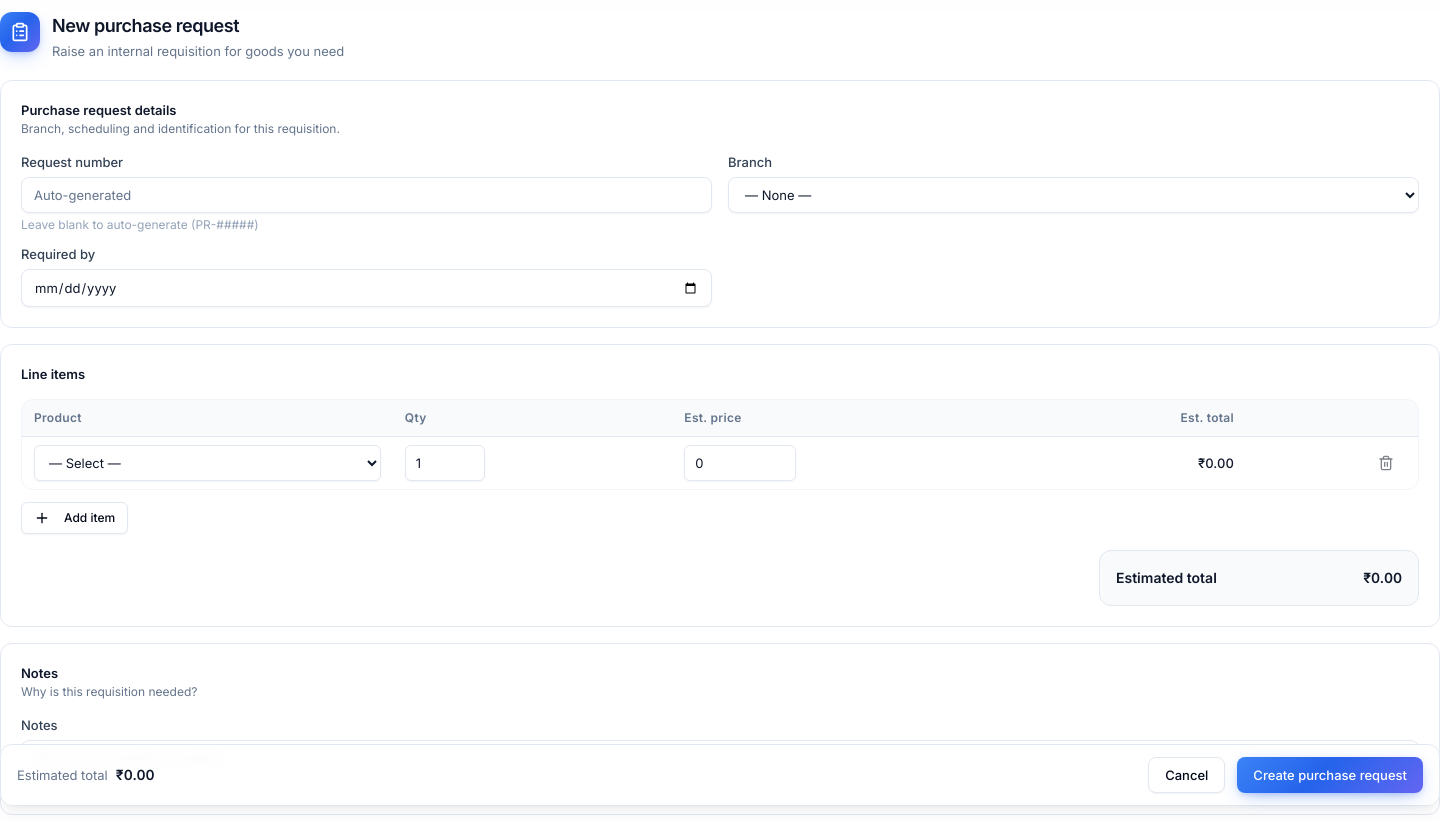
it: PurchaseRequestForm › pre-fills the estimated price from the chosen product
Select "Widget" in the dropdown named "Product for line 1" at (207, 462), box [34,444,381,480]
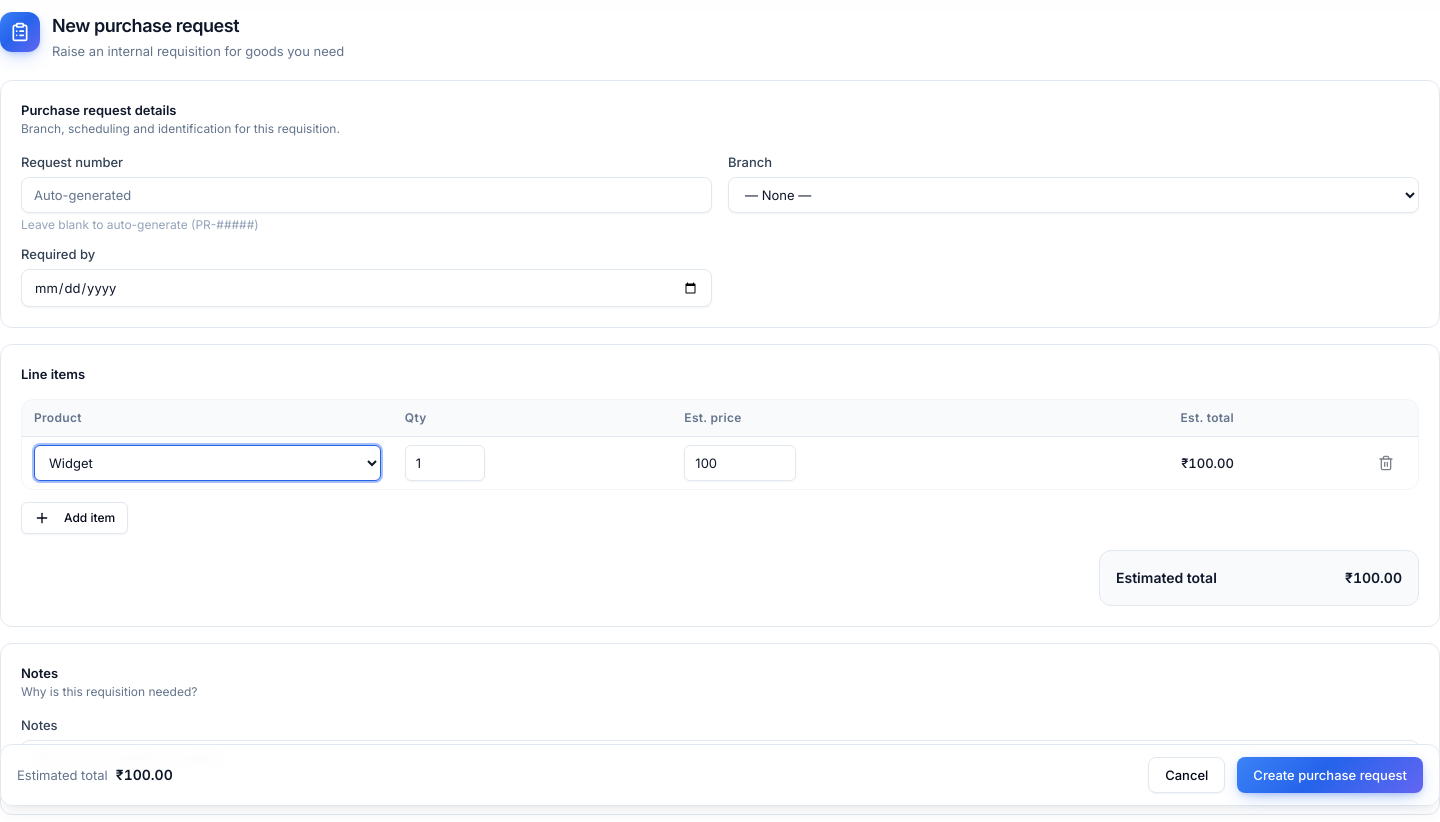
Now the number field named "Estimated price for line 1" holds "100", box [684,444,796,480]
